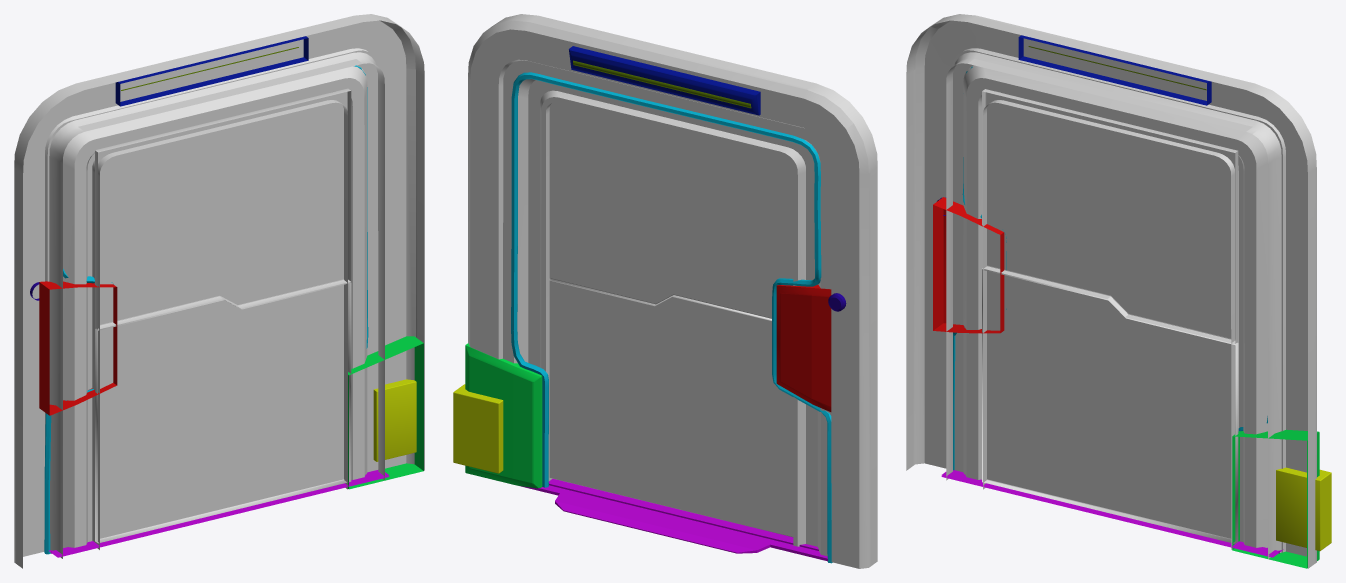
File: Door1.FBX
3 views of the same model, side by side, from view 1: azimuth 30°, elevation 25°; view 2: azimuth 150°, elevation 25°; view 3: azimuth 330°, elevation 25° (orthographic).
Visible parts, largest first — view 1: Door 1_Lo, Object327, Object326; view 2: Door 1_Lo, Object327, Object326; view 3: Door 1_Lo, Object327, Object326.
Part boxes in pixels (x1,y1,x2,y2): Door 1_Lo: (14, 14, 424, 568); Object327: (95, 282, 351, 543); Object326: (95, 88, 351, 329); Door 1_Lo: (453, 14, 877, 568); Object327: (549, 279, 793, 537); Object326: (549, 101, 793, 318); Door 1_Lo: (906, 14, 1331, 568); Object327: (982, 269, 1238, 543); Object326: (982, 89, 1238, 343).
Size of the model in its own units: 2.47 by 2.7 by 0.2874.
